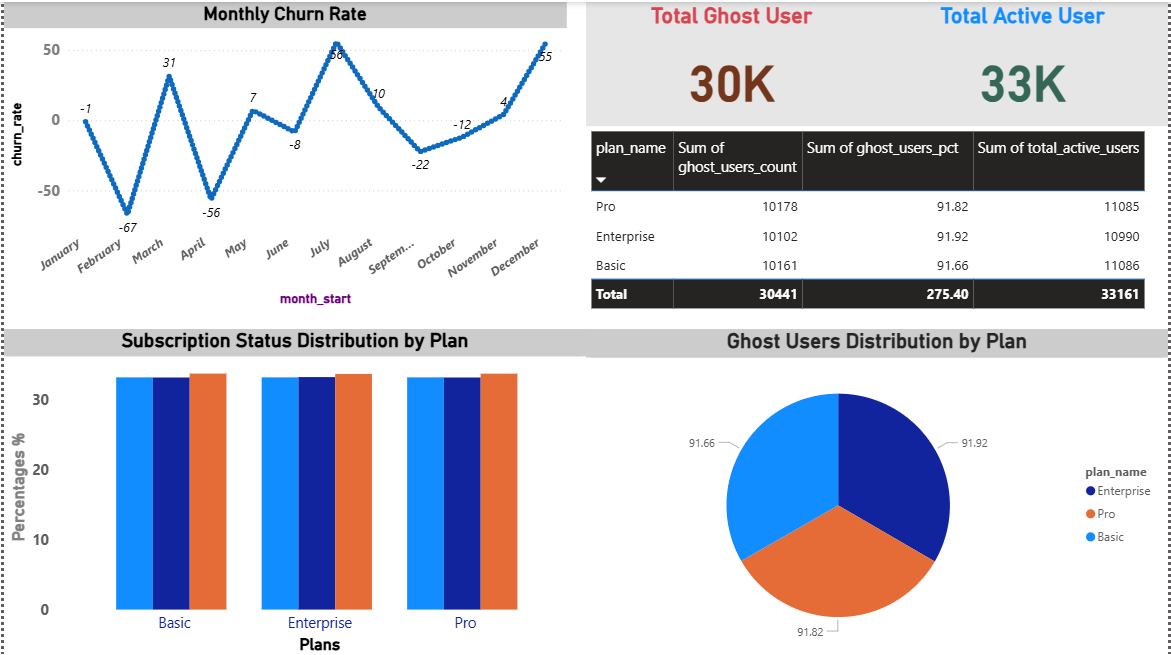

Layout of this report page (visuals, bound fields, positions):
{"tool":"powerbi","page":{"name":"Page 1","canvas":[1280,720],"ordinal":0},"visuals":[{"type":"lineChart","title":"Monthly Churn Rate","fields":{"Category":["public vw_monthly_churn.month_start.Variation.Date Hierarchy.Month"],"Y":["Sum(public vw_monthly_churn.mom_churn_pct)"]},"box":[0,0,618.3,338],"z":0},{"type":"clusteredColumnChart","title":"Subscription Status Distribution by Plan","fields":{"Category":["public vw_subscription_status_by_plan.plan_name"],"Y":["Sum(public vw_subscription_status_by_plan.active_pct)","Sum(public vw_subscription_status_by_plan.canceled_pct)","Sum(public vw_subscription_status_by_plan.paused_pct)"]},"box":[0,359.5,639.8,361.1],"z":1000},{"type":"card","title":"Total Ghost User","fields":{"Values":["Sum(public vw_ghost_users_metrics.ghost_users_count)"]},"box":[639.8,0,319.9,136.9],"z":2000},{"type":"card","title":"Total Active User","fields":{"Values":["Sum(public vw_ghost_users_metrics.total_active_users)"]},"box":[959.7,0,319.9,136.9],"z":3000},{"type":"pieChart","title":"Ghost Users Distribution by Plan","fields":{"Category":["public vw_ghost_users_metrics.plan_name"],"Y":["Sum(public vw_ghost_users_metrics.ghost_users_pct)"]},"box":[639.8,359.5,639.8,361.1],"z":3001},{"type":"tableEx","fields":{"Values":["public vw_ghost_users_metrics.plan_name","Sum(public vw_ghost_users_metrics.ghost_users_count)","Sum(public vw_ghost_users_metrics.ghost_users_pct)","Sum(public vw_ghost_users_metrics.total_active_users)"]},"box":[639.8,136.9,639.8,222.6],"z":3002}]}

Visuals, with their boxes in screenshot pixels (x1, y1, x2, y2), scaled from the page's 1280x720 canvas onto the 1171x655 screenshot:
"Monthly Churn Rate" lineChart: <box>0,0,566,307</box>
"Subscription Status Distribution by Plan" clusteredColumnChart: <box>0,327,585,654</box>
"Total Ghost User" card: <box>585,0,878,125</box>
"Total Active User" card: <box>878,0,1170,125</box>
"Ghost Users Distribution by Plan" pieChart: <box>585,327,1170,654</box>
tableEx - public vw_ghost_users_metrics.plan_name x Sum(public vw_ghost_users_metrics.ghost_users_count): <box>585,125,1170,327</box>
